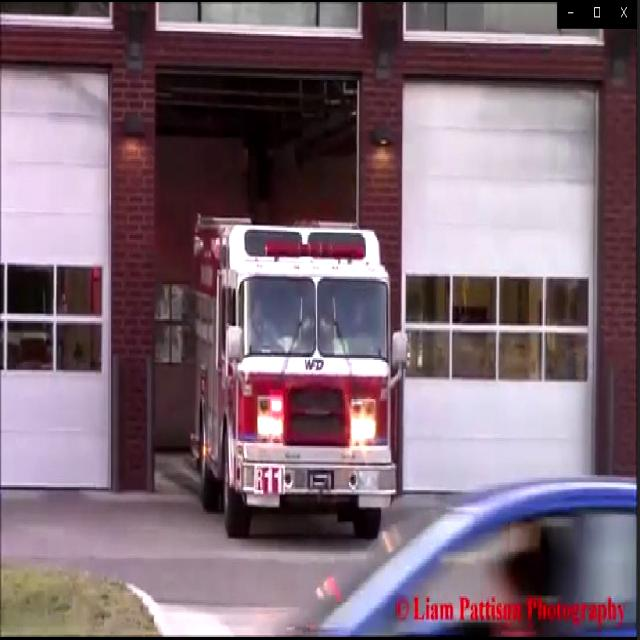emergency: (183, 209, 414, 548)
